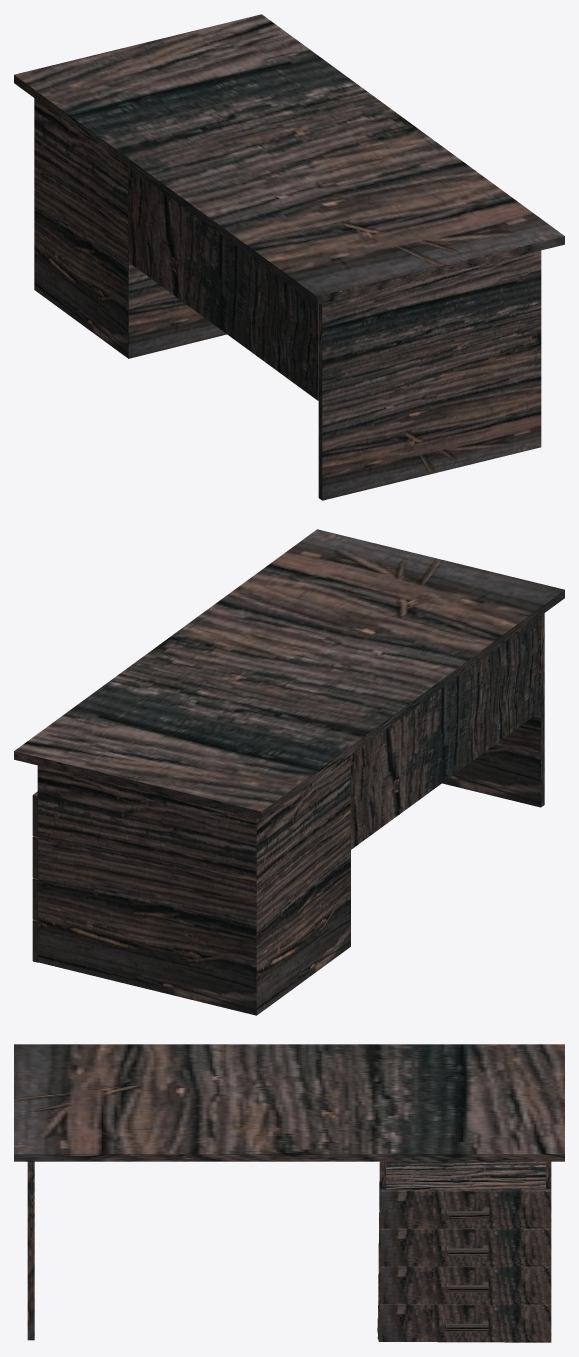
The model's file is table.glb.
3 renders of one model, top to bottom at view 1: azimuth 30°, elevation 25°; view 2: azimuth 150°, elevation 25°; view 3: azimuth 270°, elevation 25°, orthographic. The views are drawn at different scales.
Visible parts, largest first — view 1: Cube.013_Cube.015; view 2: Cube.013_Cube.015; view 3: Cube.013_Cube.015.
Part boxes in pixels (x1,y1,x2,y2): Cube.013_Cube.015: [14, 14, 564, 500]; Cube.013_Cube.015: [14, 529, 564, 1015]; Cube.013_Cube.015: [14, 1044, 564, 1342].
Size of the model in its own units: 4.56 by 3.74 by 9.64.
1 material, 1 textured.
